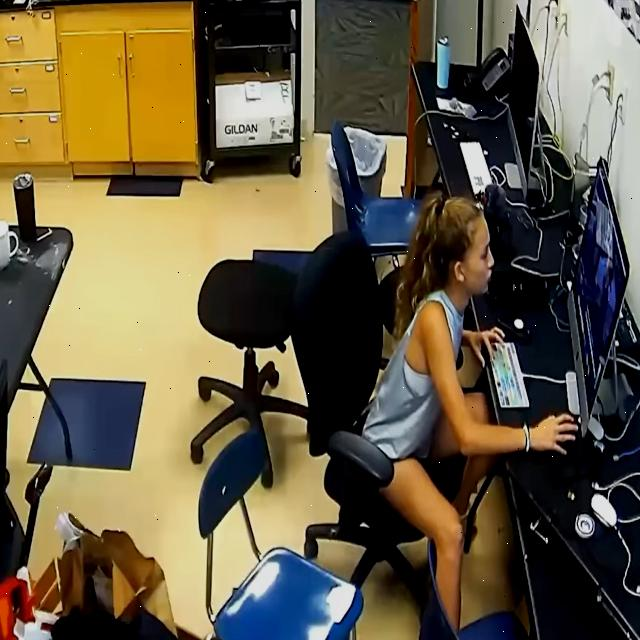sitting: (362, 196, 577, 629)
